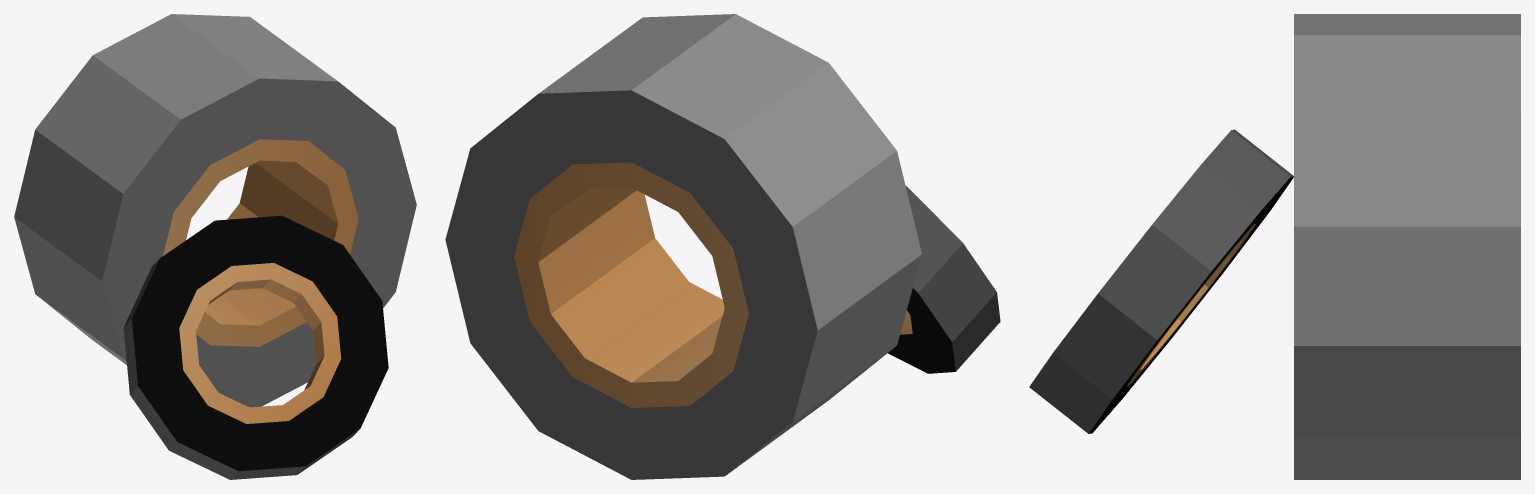
File: SM_Int_Tape.fbx
3 views of the same model, side by side, from view 1: azimuth 30°, elevation 25°; view 2: azimuth 150°, elevation 25°; view 3: azimuth 270°, elevation 25° (orthographic). The views are drawn at different scales.
Parts seen in each view (by area): view 1: SM_Int_Tape; view 2: SM_Int_Tape; view 3: SM_Int_Tape.
Boxes of the visible parts, bbox=[...] form: SM_Int_Tape: bbox=[14, 14, 416, 479]; SM_Int_Tape: bbox=[445, 14, 1000, 479]; SM_Int_Tape: bbox=[1029, 14, 1520, 479].
Bounding box in the file's own units: 1.02 × 0.9797 × 1.03.
